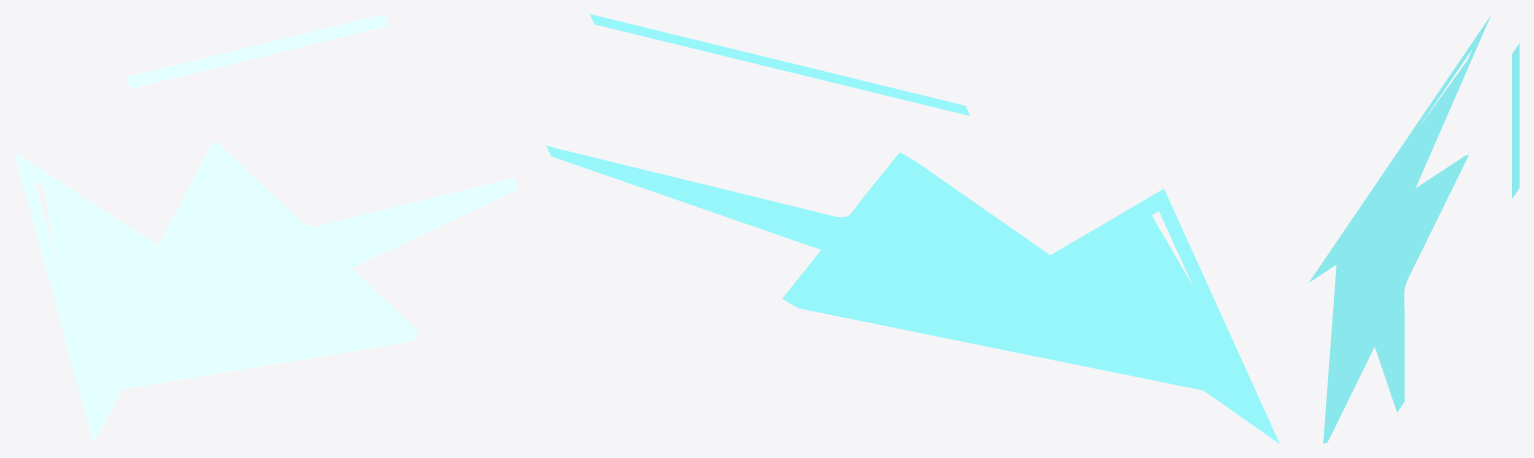
Rendered from Rune_Glow_2.fbx.
3 renders of one model, left to right at view 1: azimuth 30°, elevation 25°; view 2: azimuth 150°, elevation 25°; view 3: azimuth 270°, elevation 25°, orthographic. The views are drawn at different scales.
Visible parts, largest first — view 1: Rune2; view 2: Rune2; view 3: Rune2.
Part boxes in pixels (<box>): Rune2: <box>14,14,517,443</box>; Rune2: <box>546,14,1279,443</box>; Rune2: <box>1309,15,1519,443</box>.
Size of the model in its own units: 0.6867 by 0.3821 by 0.2358.
